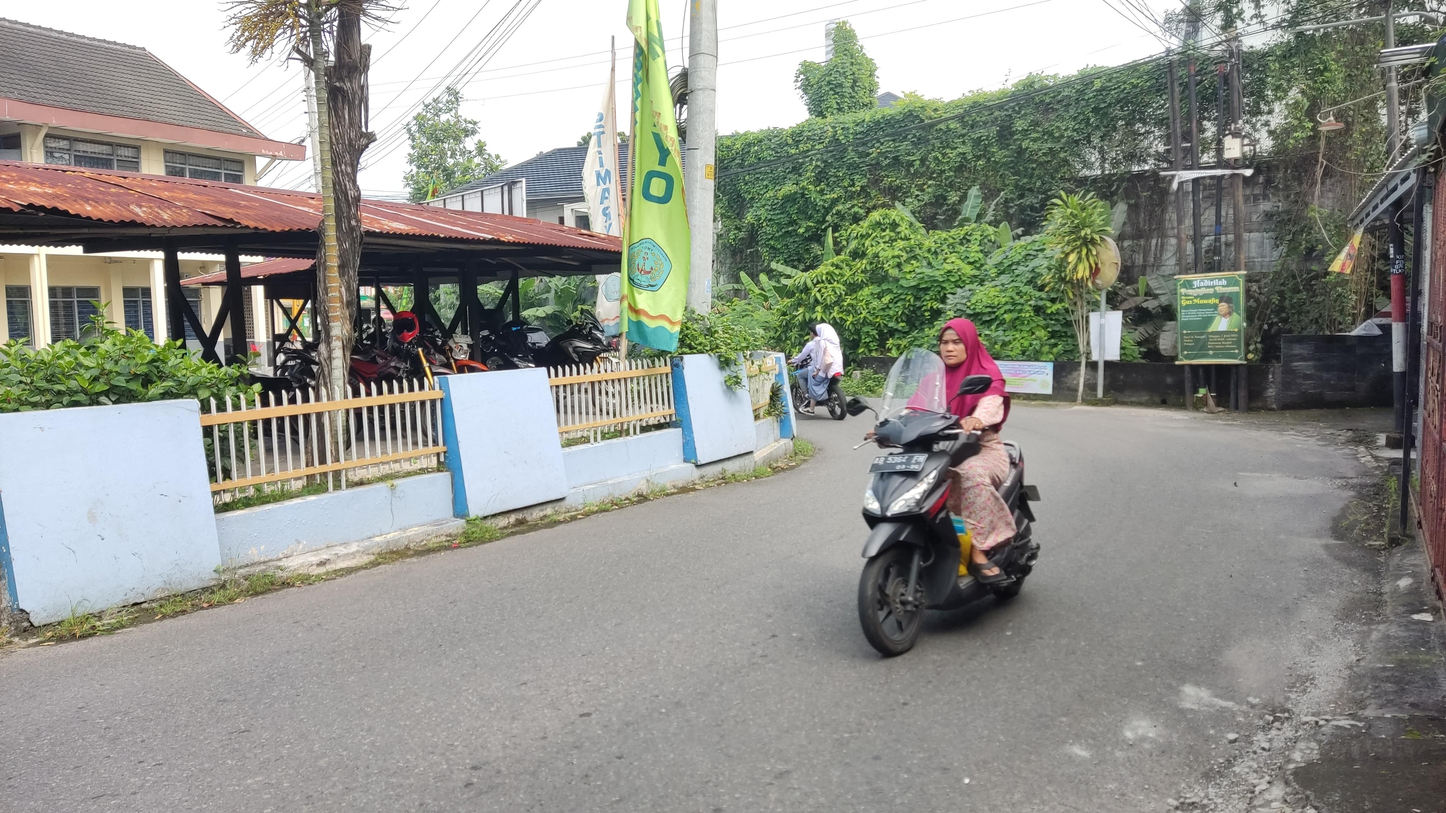nohelm: (938, 317, 979, 367)
riding: (844, 315, 1043, 658)
